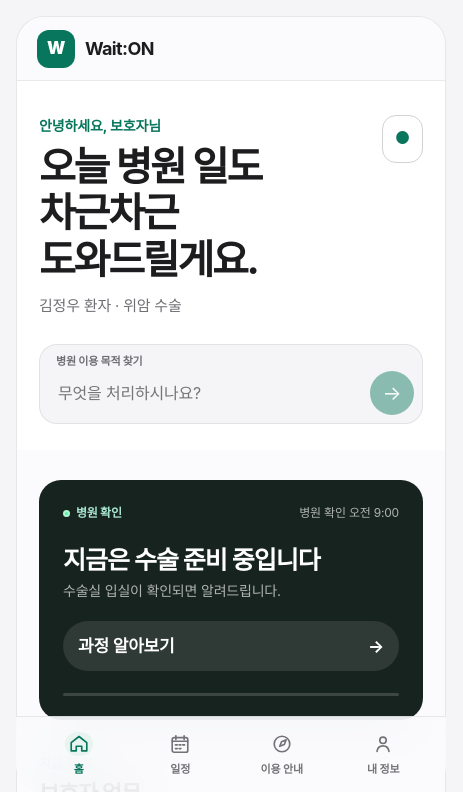
it: CaregiverJourneyApp › 내 정보 탭에서 보호자와 연결 환자를 확인한다
Click the button "내 정보" at [383, 754], box [334, 725, 432, 784]
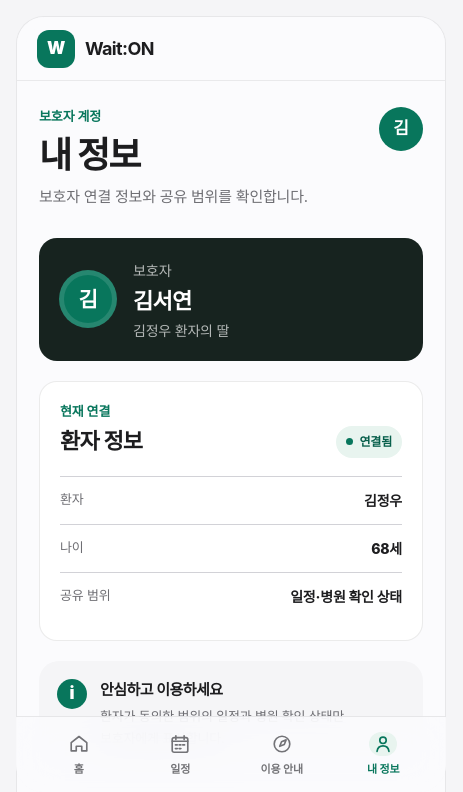
Result: the heading "내 정보" is shown at [39, 132, 139, 176]
Result: the heading "김서연" is shown at [133, 288, 191, 314]
Result: the text "김정우 환자의 딸" is shown at [133, 320, 229, 341]
